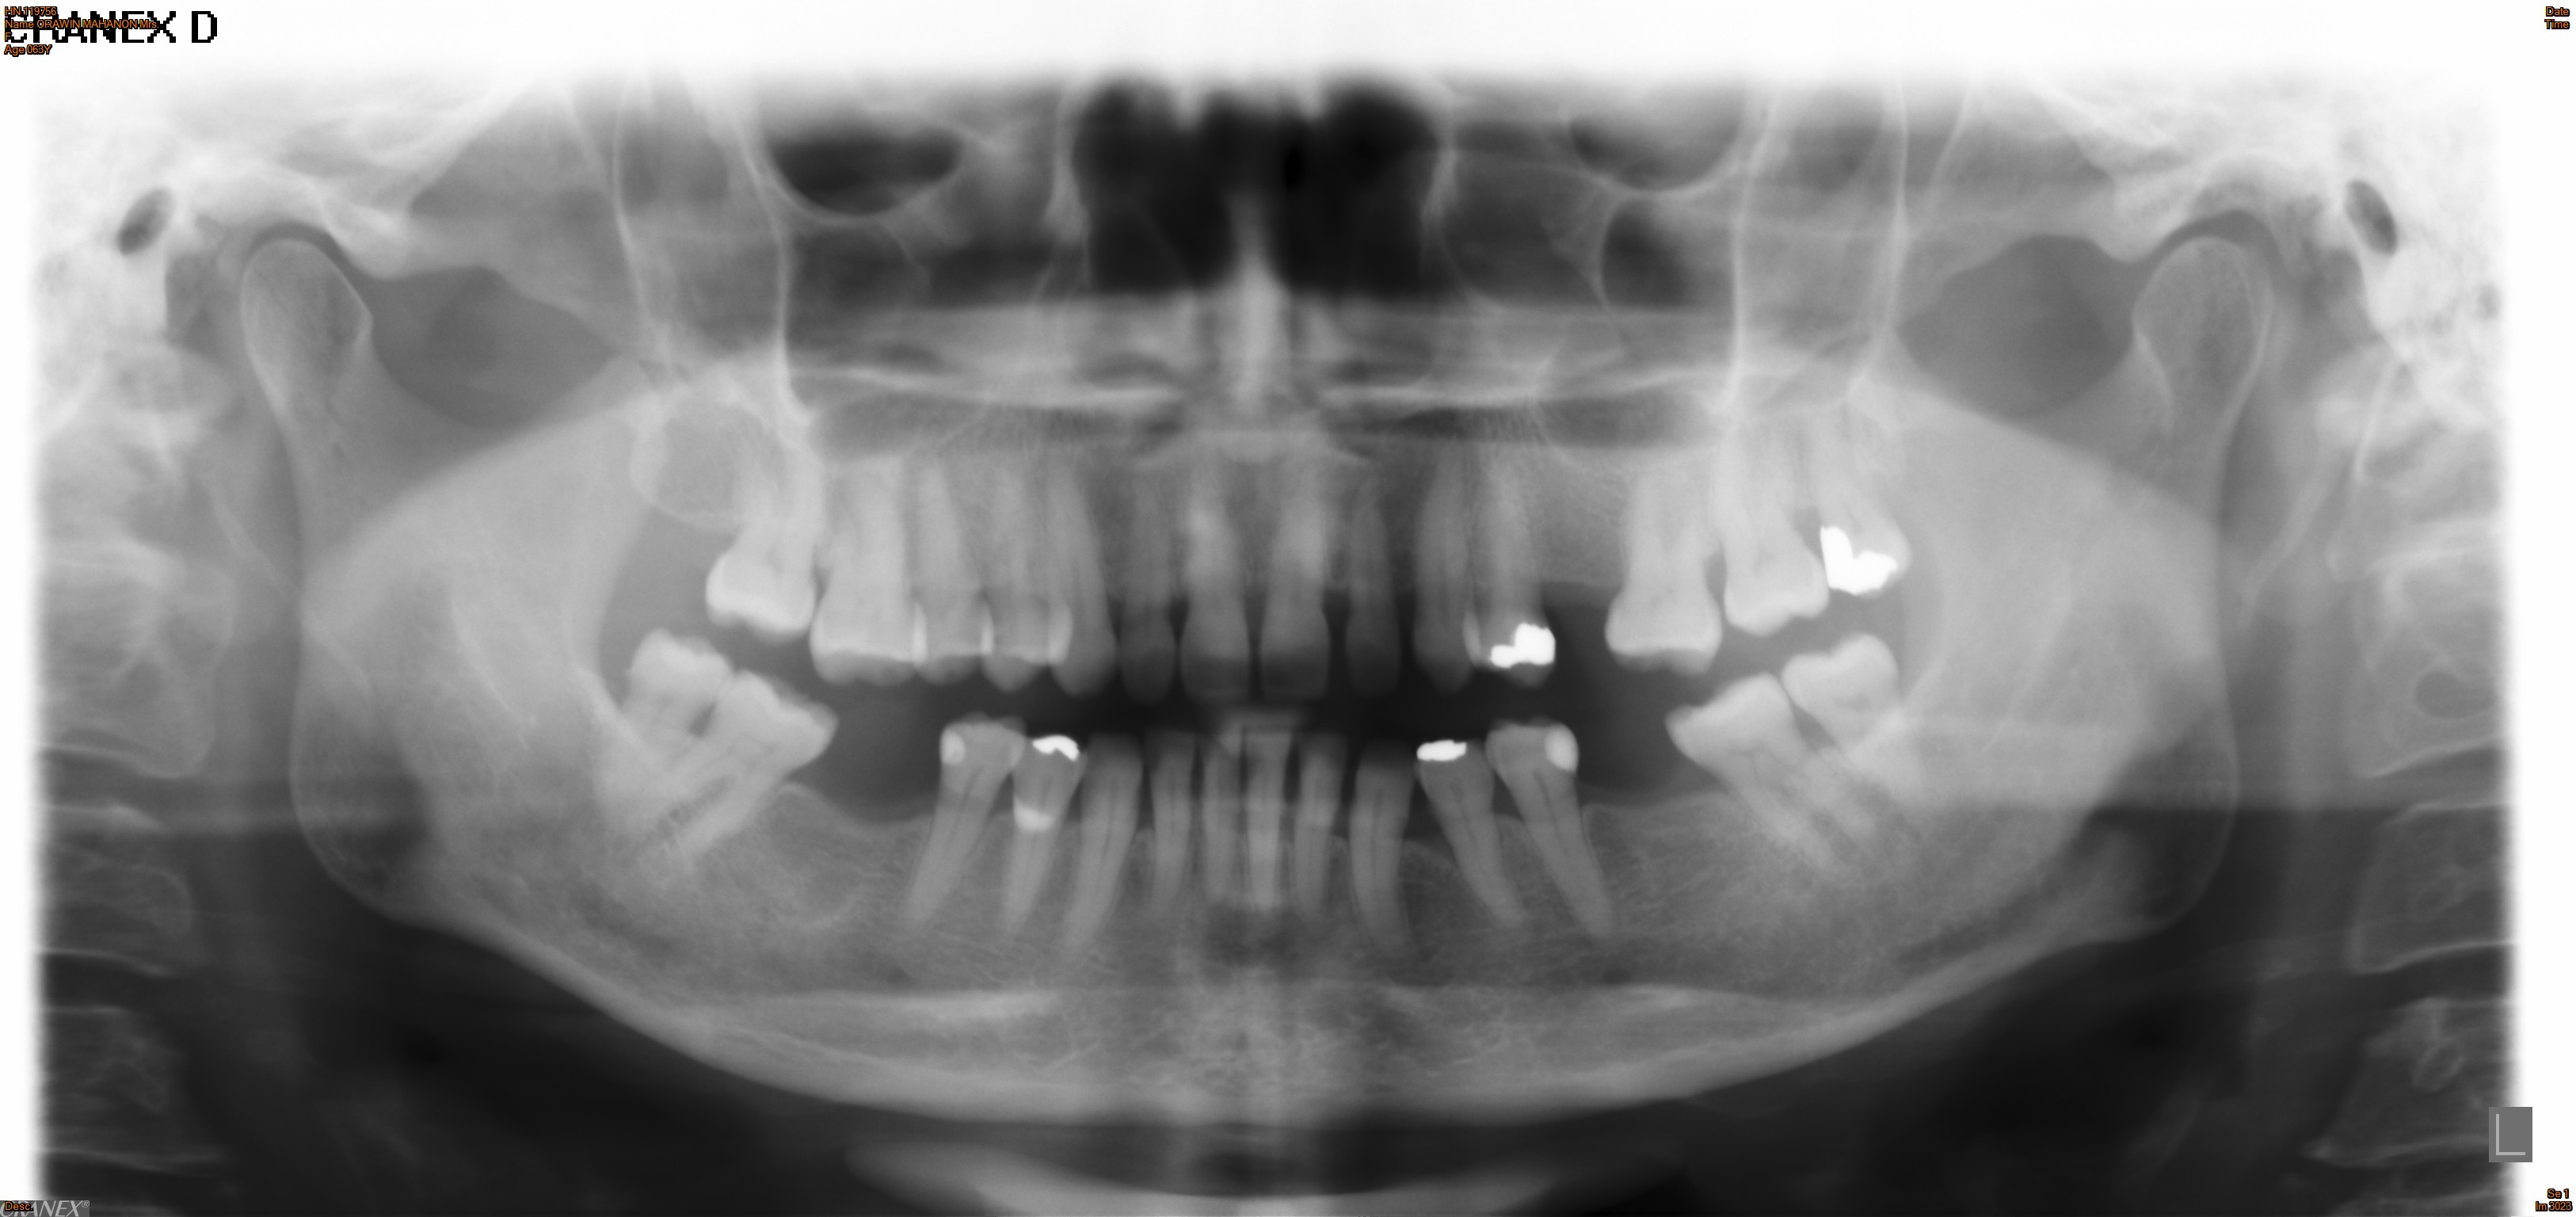periodontitis: (613, 662, 848, 898), (1659, 667, 1888, 889), (889, 706, 1046, 958), (1479, 714, 1618, 953), (1406, 729, 1536, 946)
